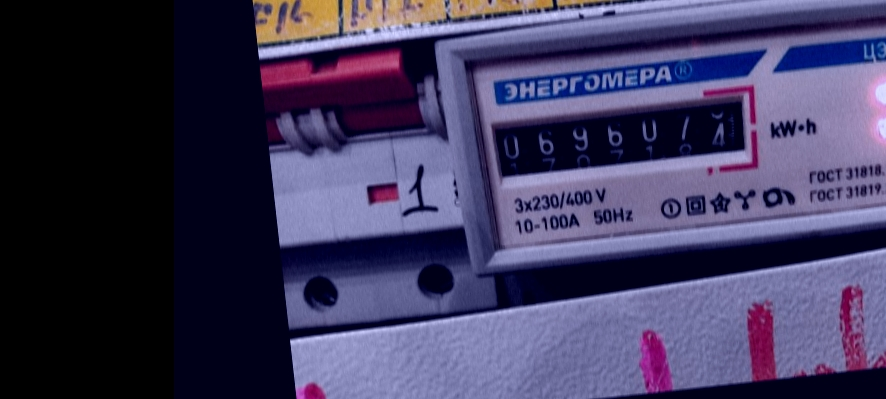0: (637, 113, 659, 145), (499, 131, 520, 161)
4: (707, 121, 726, 150)
6: (602, 119, 625, 150), (534, 126, 556, 156)
7: (673, 111, 693, 143)
9: (569, 124, 589, 153)
screen: (474, 78, 767, 197)
